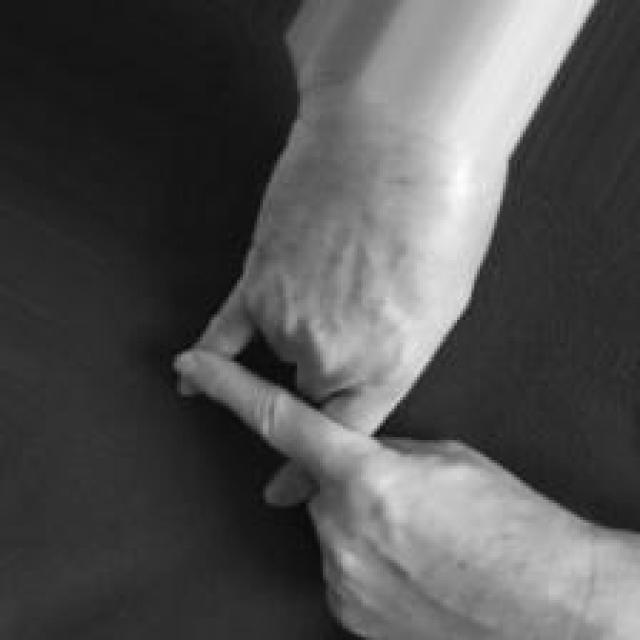H: (171, 130, 598, 640)
